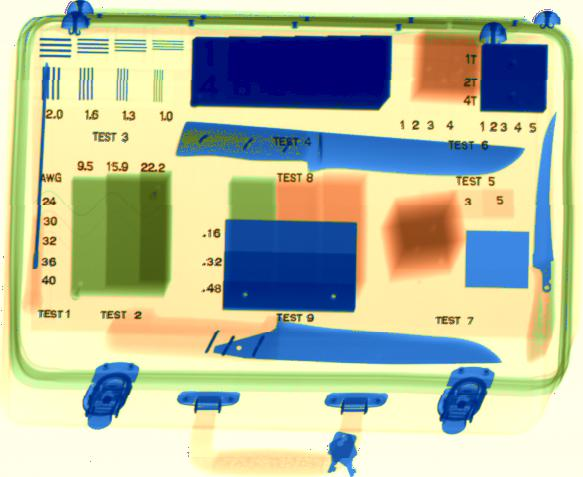Knife: (105, 310, 502, 365), (175, 120, 526, 180), (526, 113, 559, 360)
